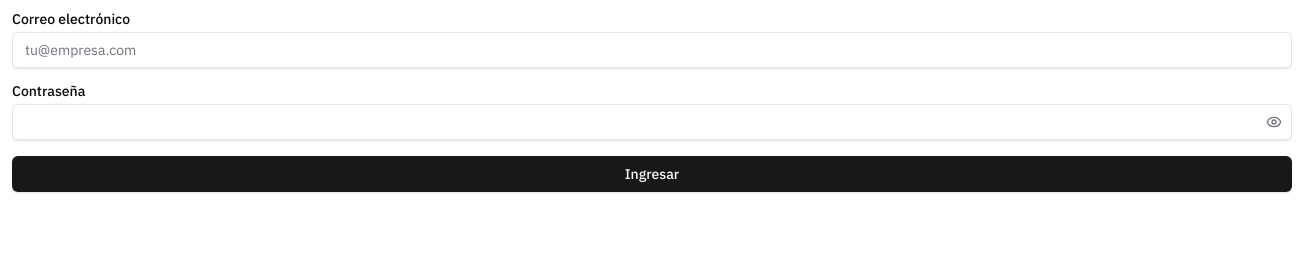
LoginForm — device trust y errores de cuenta › muestra mensaje de cuenta suspendida cuando login responde con 403 (ForbiddenError)
This screenshot has width=1304, height=272.
Type "test@corehub.com" into the field labelled "Correo electrónico" at (652, 50), box left=12, top=32, right=1292, bottom=68
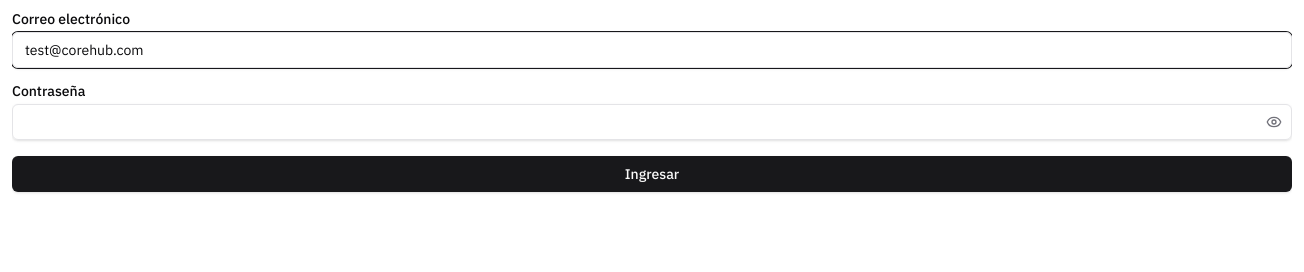
Type "any-password" into the password field labelled "Contraseña" at (652, 122), box left=12, top=104, right=1292, bottom=140
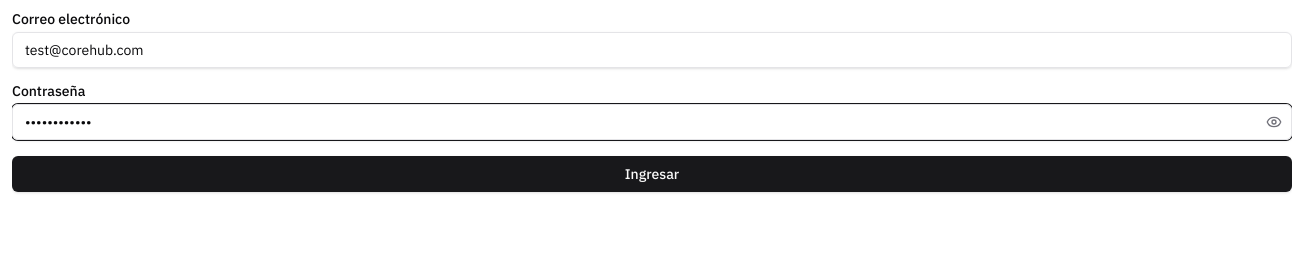
Click the button "Ingresar" at (652, 174), box left=12, top=156, right=1292, bottom=192
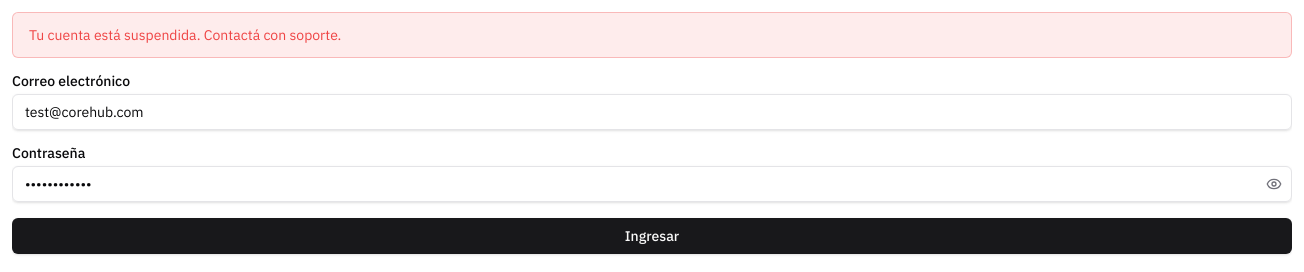
Expected: the message "Tu cuenta está suspendida. Contactá con soporte." is shown, left=12, top=12, right=1292, bottom=58
Expected: the message shows "suspendida", left=29, top=26, right=341, bottom=44
Expected: the message shows "soporte", left=29, top=26, right=341, bottom=44
